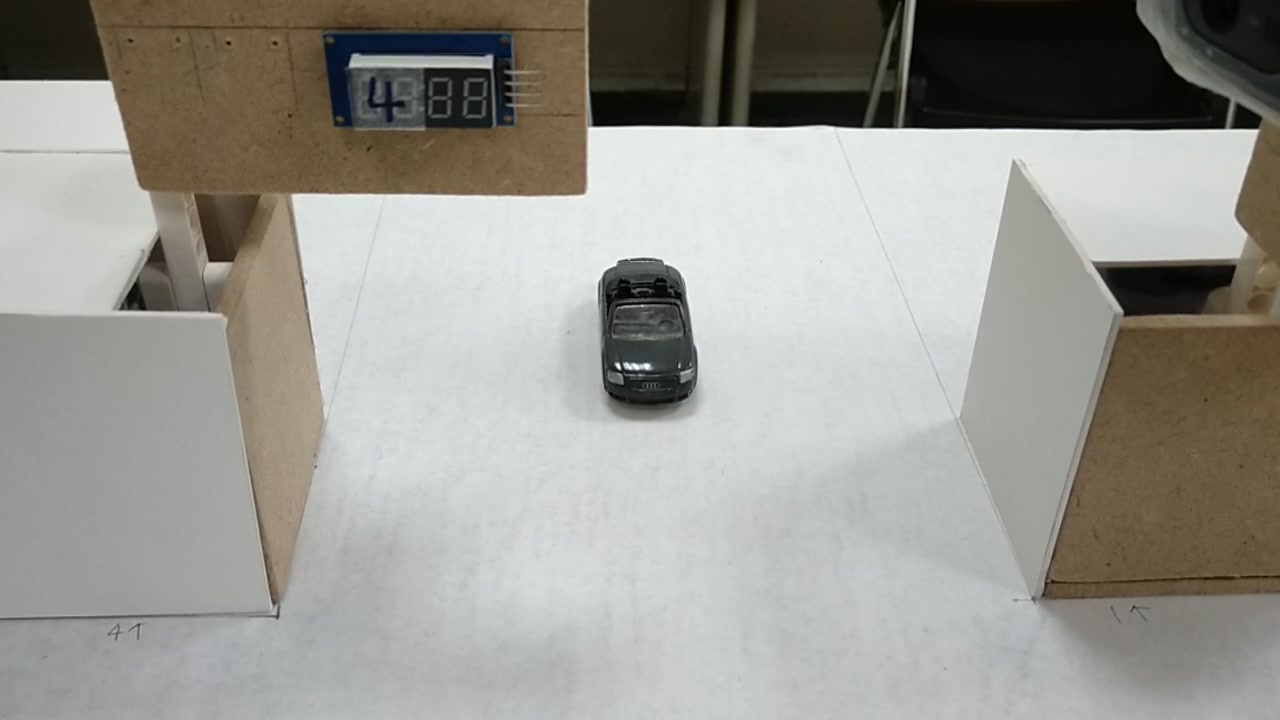car: (596, 260, 705, 403)
